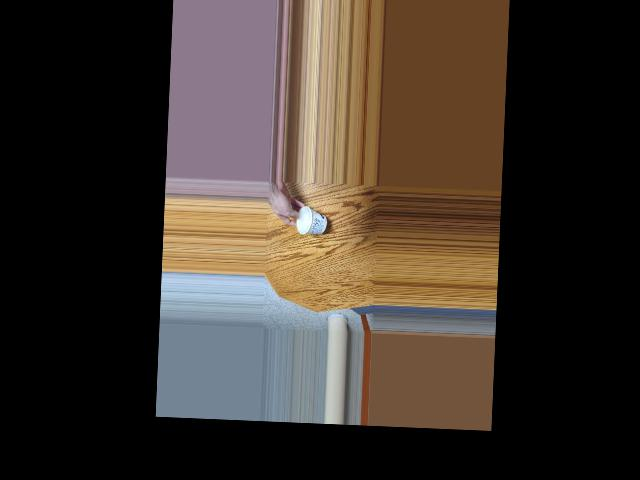cotage: (294, 204, 325, 237)
